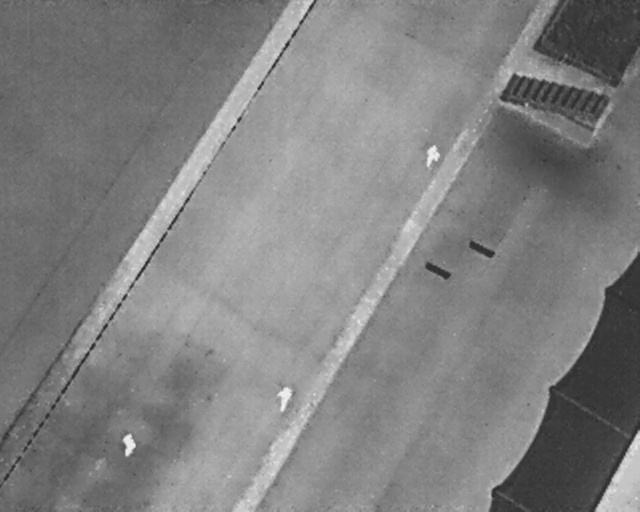Person: (271, 382, 295, 415), (422, 142, 444, 171), (120, 430, 138, 459)
